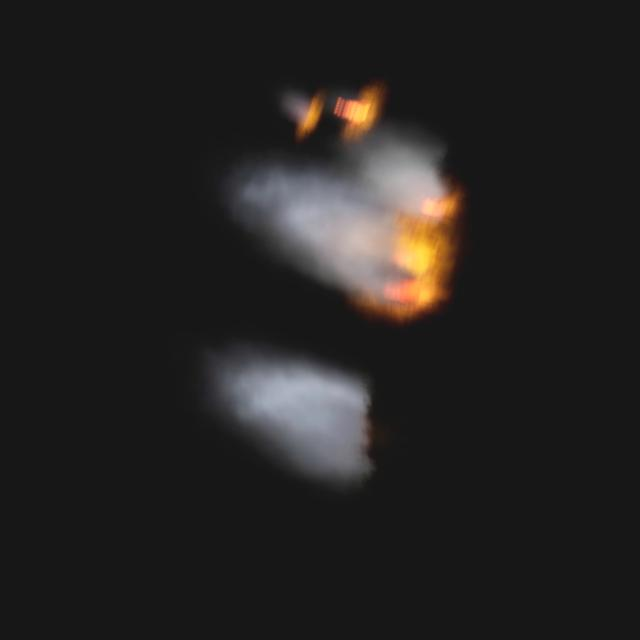fire: (356, 176, 476, 330), (328, 89, 372, 124)
smoke: (208, 84, 461, 312), (184, 327, 396, 492), (274, 90, 312, 122)
